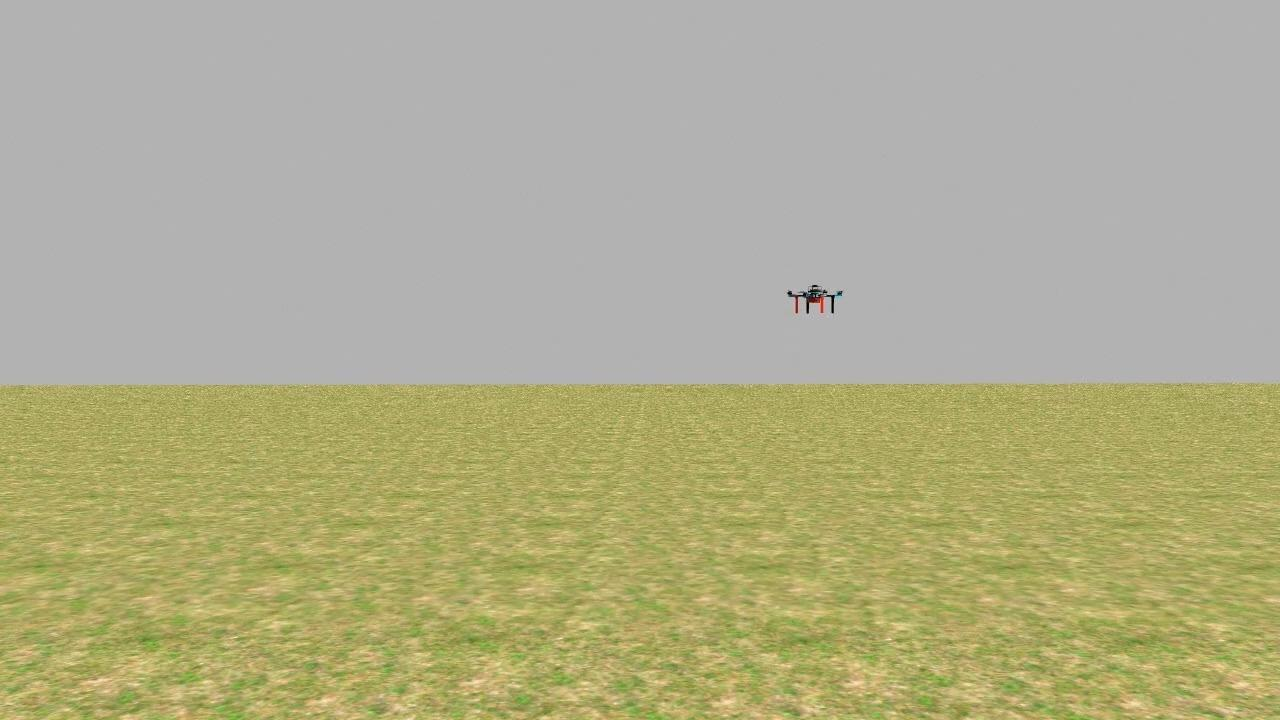UAV: (776, 274, 852, 332)
